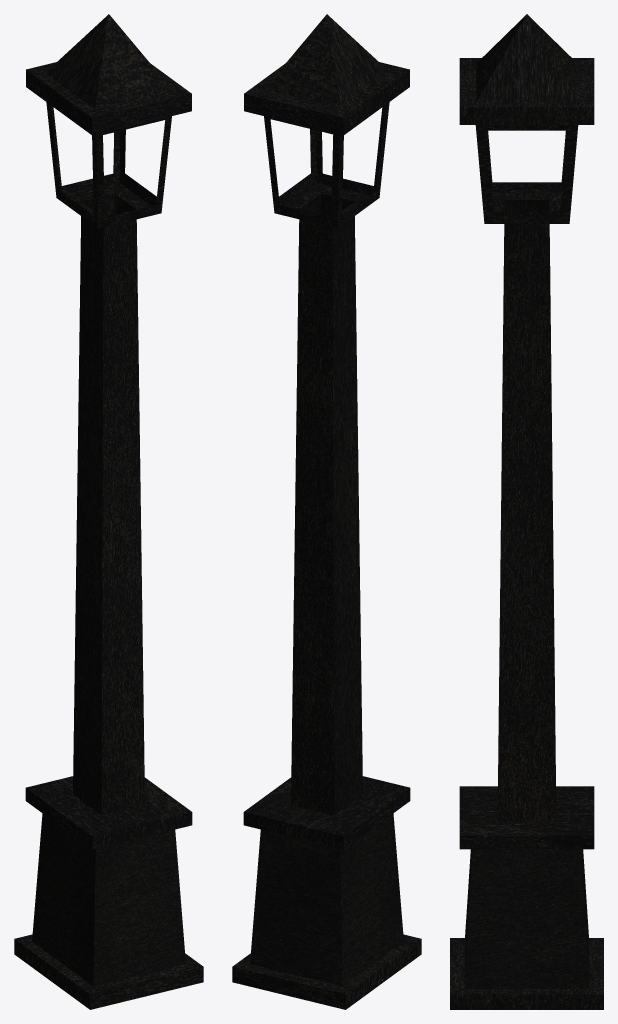
File: lamppost.obj
3 renders of one model, left to right at view 1: azimuth 30°, elevation 25°; view 2: azimuth 150°, elevation 25°; view 3: azimuth 270°, elevation 25°, orthographic.
Parts seen in each view (by area): view 1: lacluna_normalizedLightPost; view 2: lacluna_normalizedLightPost; view 3: lacluna_normalizedLightPost.
Boxes of the visible parts, <box> form: lacluna_normalizedLightPost: <box>14,14,203,1009</box>; lacluna_normalizedLightPost: <box>232,14,421,1009</box>; lacluna_normalizedLightPost: <box>450,14,603,1009</box>.
Bounding box in the file's own units: 0.9636 × 7.75 × 1.12.
1 material, 1 textured.
